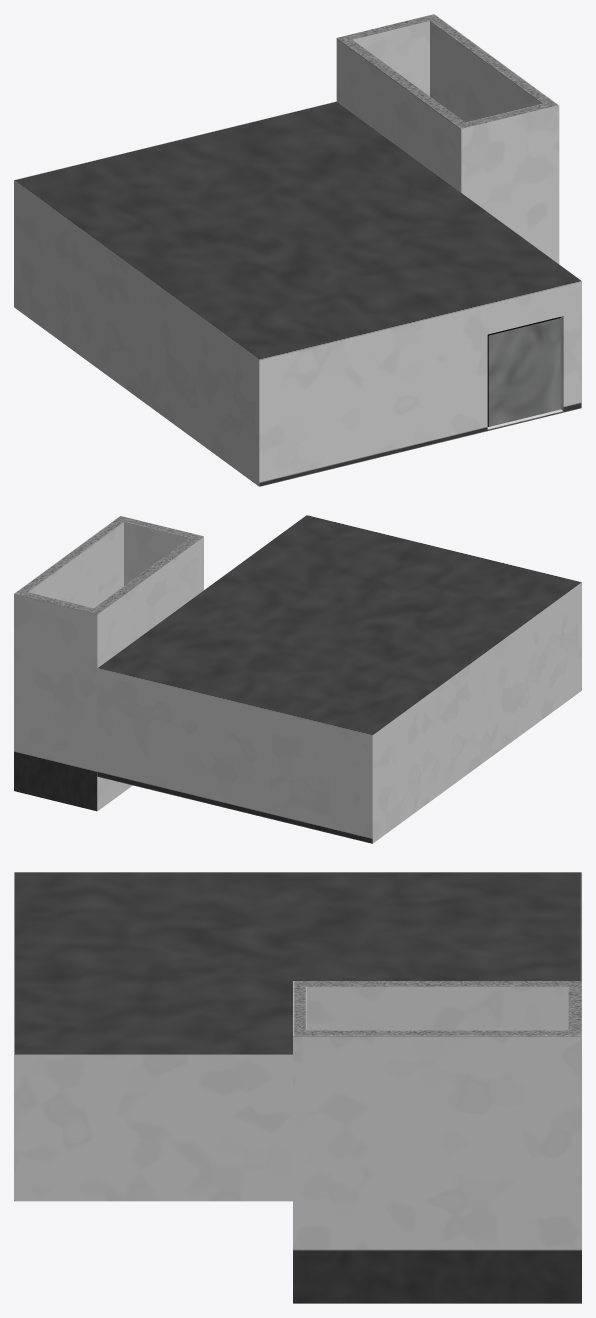
The model's file is Roof_Box.fbx.
3 renders of one model, top to bottom at view 1: azimuth 30°, elevation 25°; view 2: azimuth 150°, elevation 25°; view 3: azimuth 270°, elevation 25°, orthographic. The views are drawn at different scales.
Visible parts, largest first — view 1: Elevator.003, Cube.045, Roof_exit.003; view 2: Elevator.003, Cube.045; view 3: Elevator.003, Cube.045.
Part boxes in pixels (x1,y1,x2,y2): Elevator.003: [14, 101, 581, 486]; Cube.045: [336, 14, 559, 263]; Roof_exit.003: [487, 317, 561, 426]; Elevator.003: [97, 515, 581, 843]; Cube.045: [14, 516, 203, 811]; Elevator.003: [14, 872, 581, 1201]; Cube.045: [293, 981, 581, 1303].
Size of the model in its own units: 692 by 364 by 700.
Materials: 4 (4 with a texture image).
